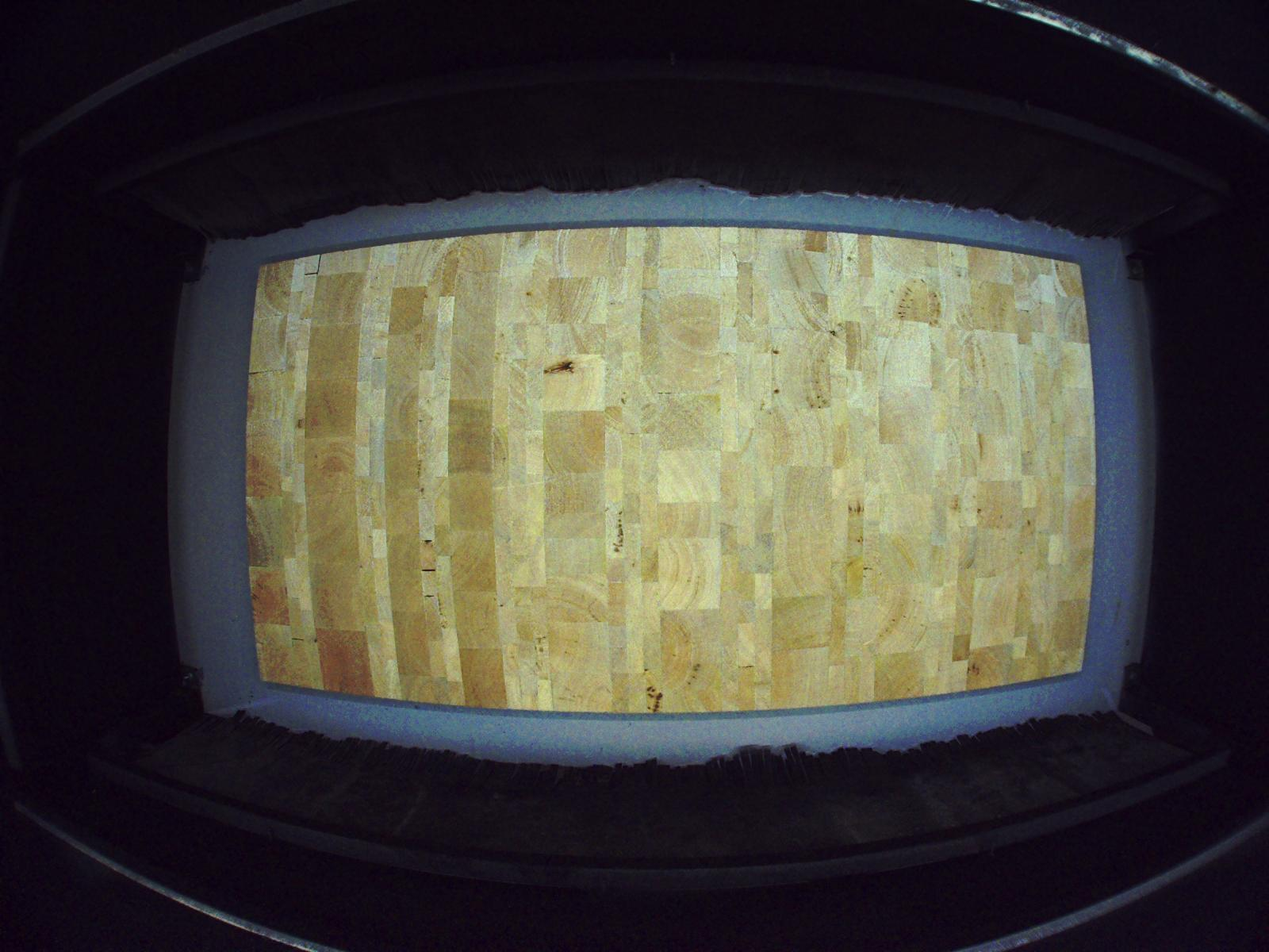nudillo: (542, 359, 576, 378)
